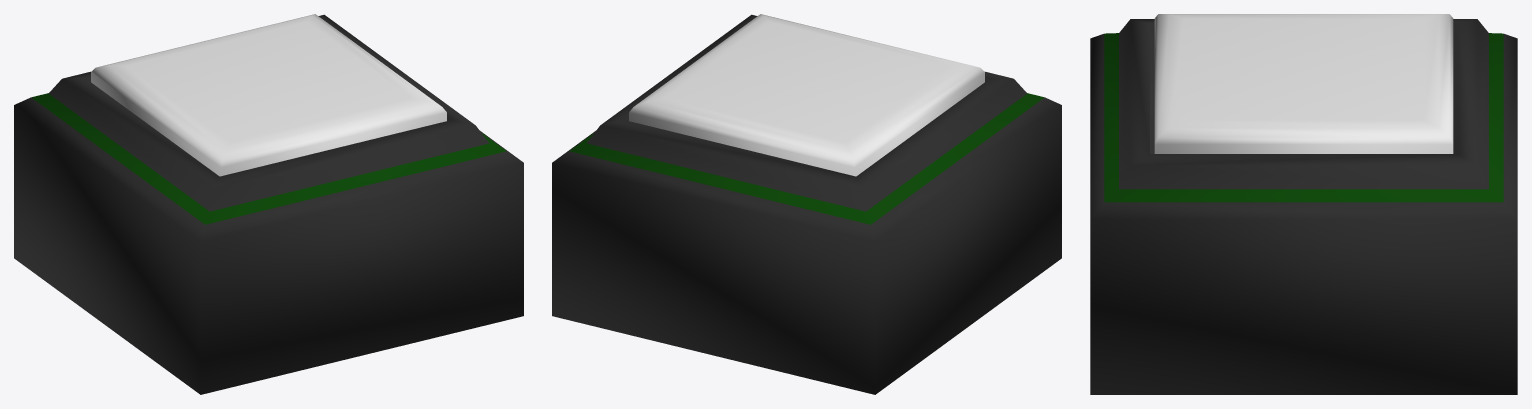
File: cockpit-button.fbx
3 views of the same model, side by side, from view 1: azimuth 30°, elevation 25°; view 2: azimuth 150°, elevation 25°; view 3: azimuth 270°, elevation 25° (orthographic). The views are drawn at different scales.
Parts seen in each view (by area): view 1: casing, movable part; view 2: casing, movable part; view 3: casing, movable part.
Boxes of the visible parts, x1,y1,x2,y2 form: casing: (14,14,523,394); movable part: (91,14,446,176); casing: (552,14,1061,394); movable part: (629,14,984,176); casing: (1090,19,1517,394); movable part: (1154,14,1453,153).
Bounding box in the file's own units: 2.83 × 1.71 × 2.83.
